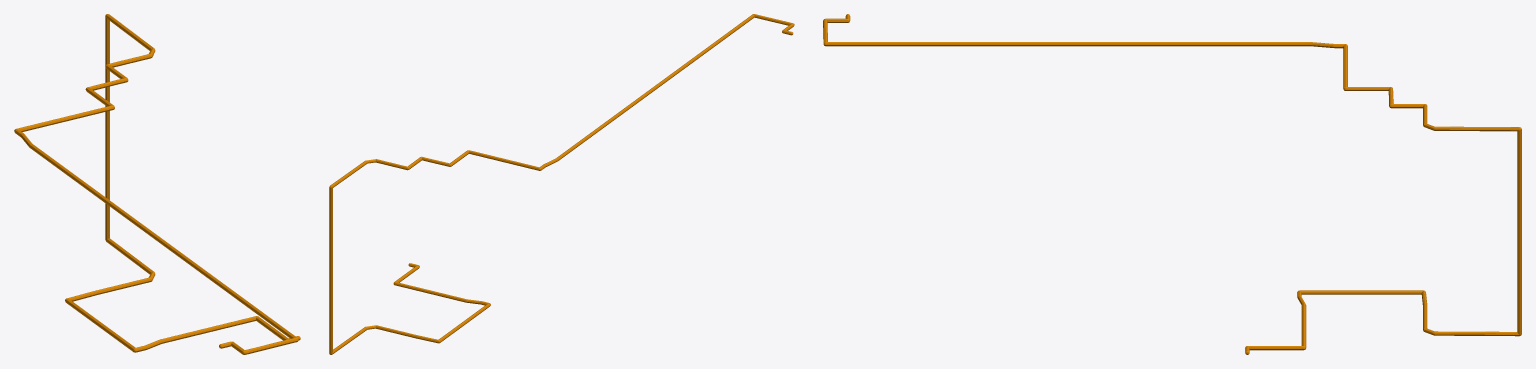
3 renders of one model, left to right at view 1: azimuth 30°, elevation 25°; view 2: azimuth 150°, elevation 25°; view 3: azimuth 270°, elevation 25°, orthographic. The views are drawn at different scales.
Size of the model in its own units: 1402 by 1020 by 3092.
